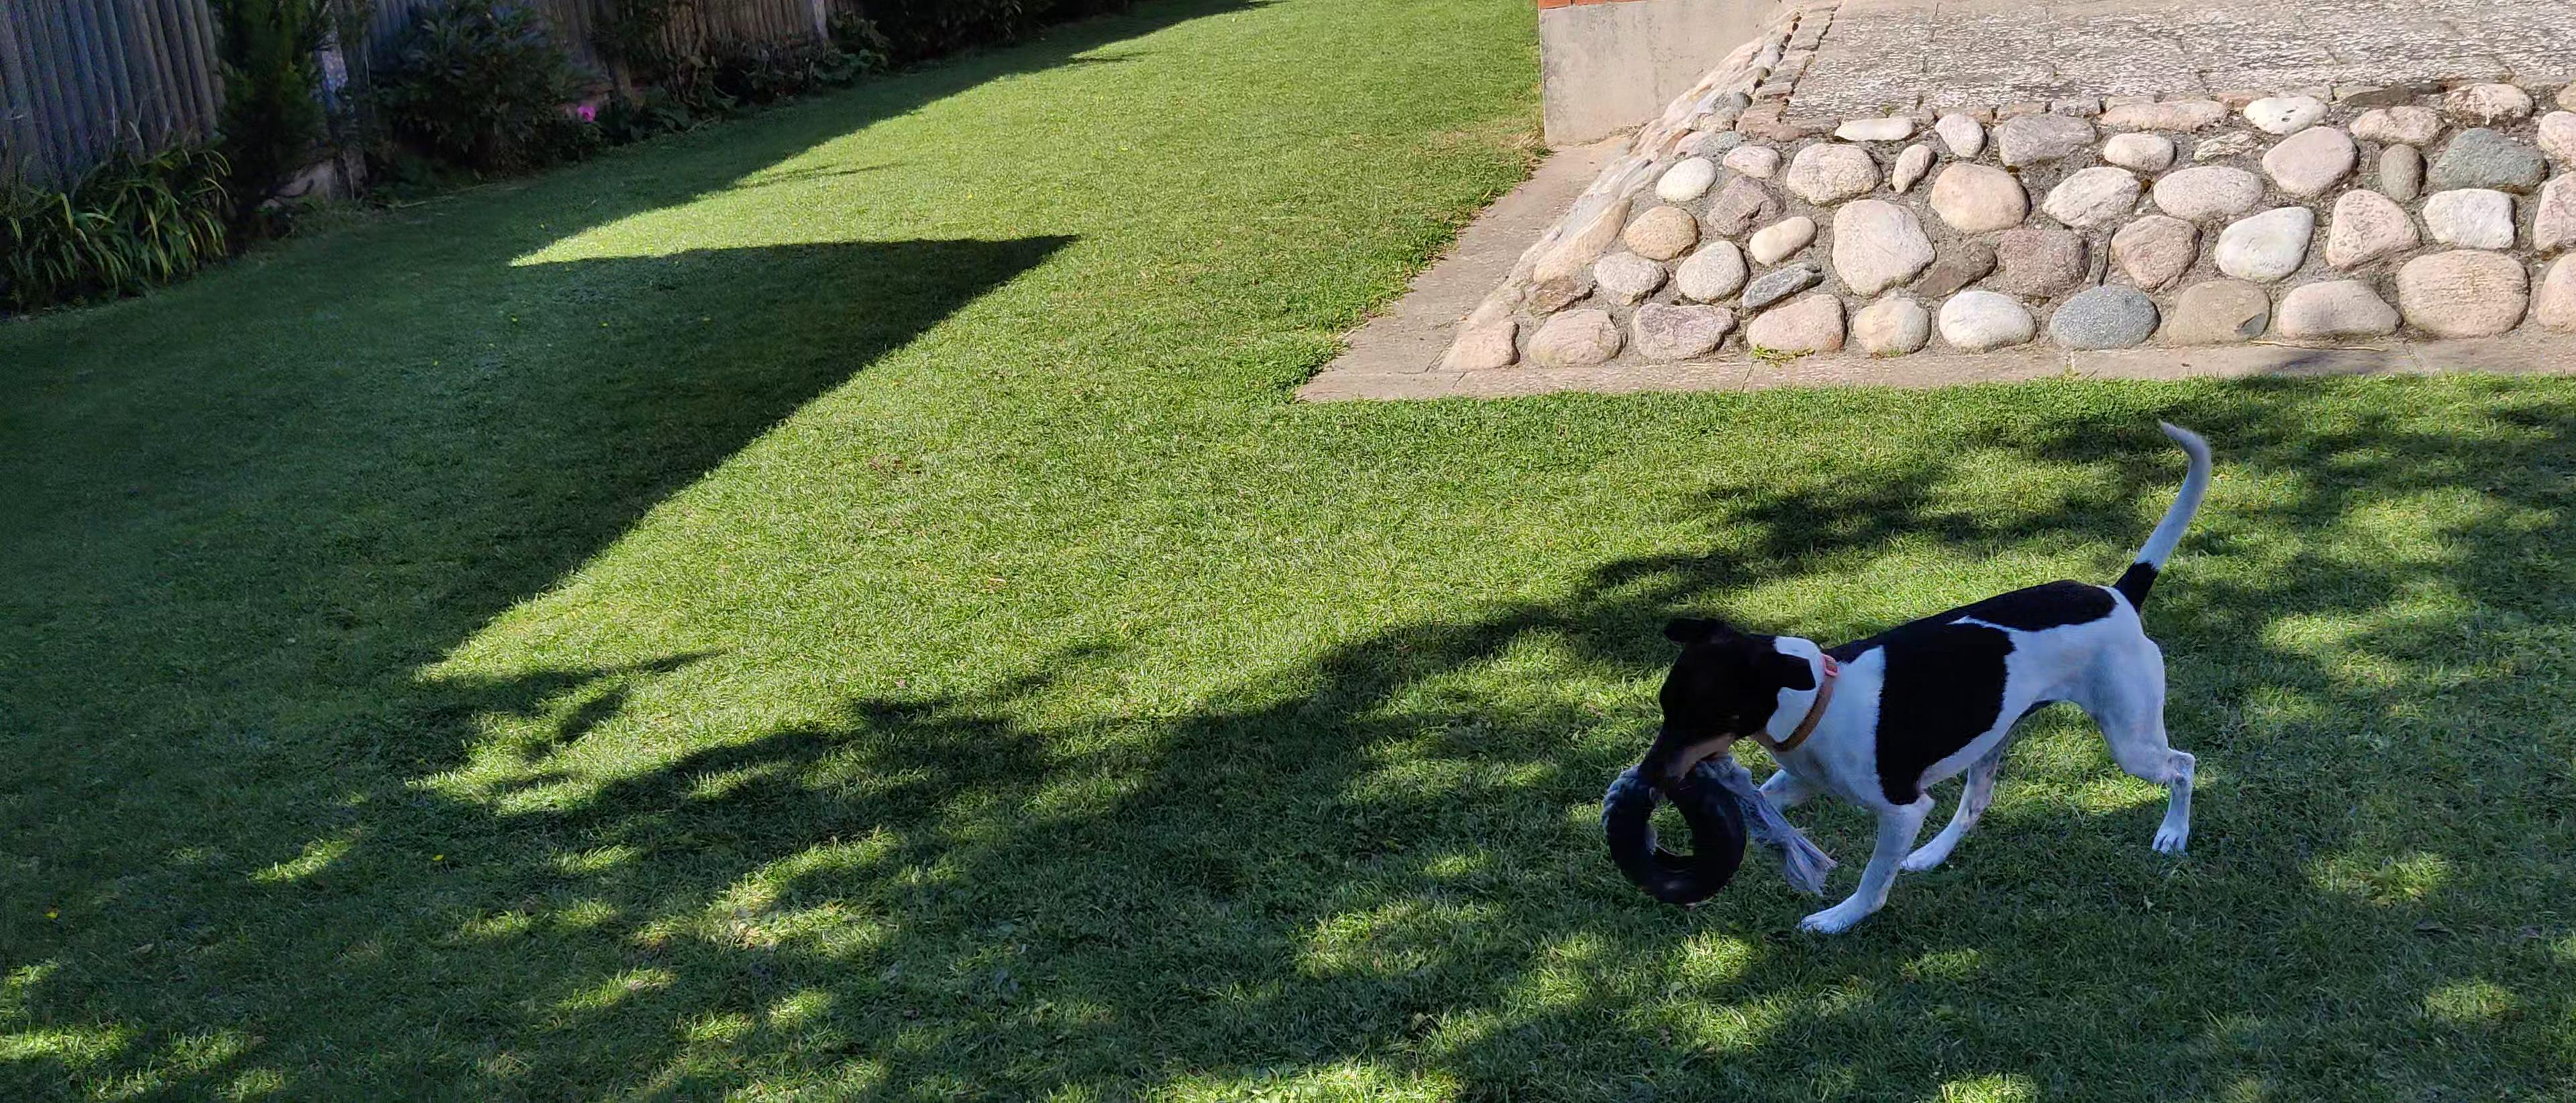Dog: (1603, 399, 2231, 947)
